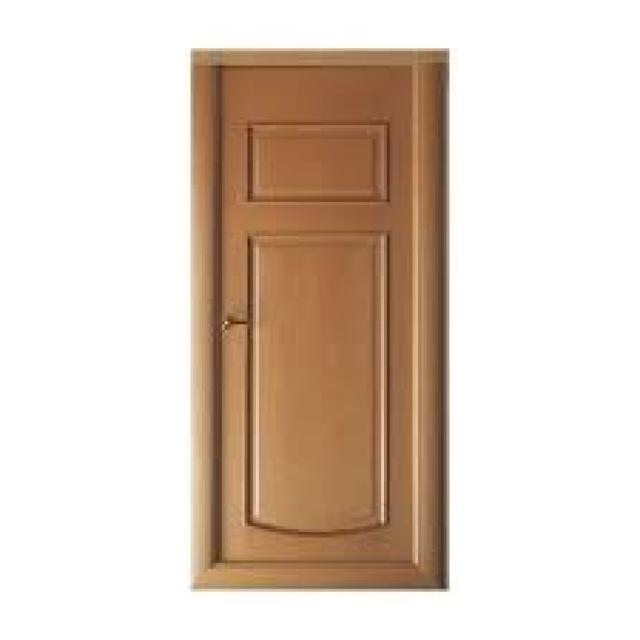door: (190, 51, 450, 592)
